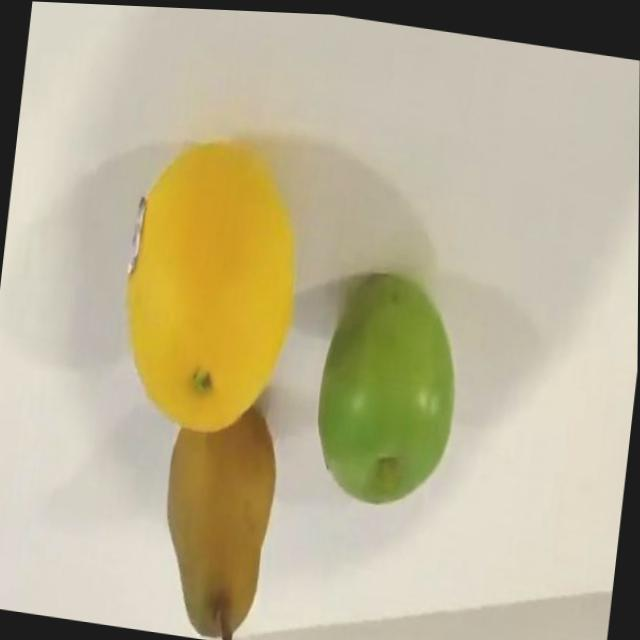Apple: (305, 257, 468, 514)
Orange: (111, 119, 312, 443)
